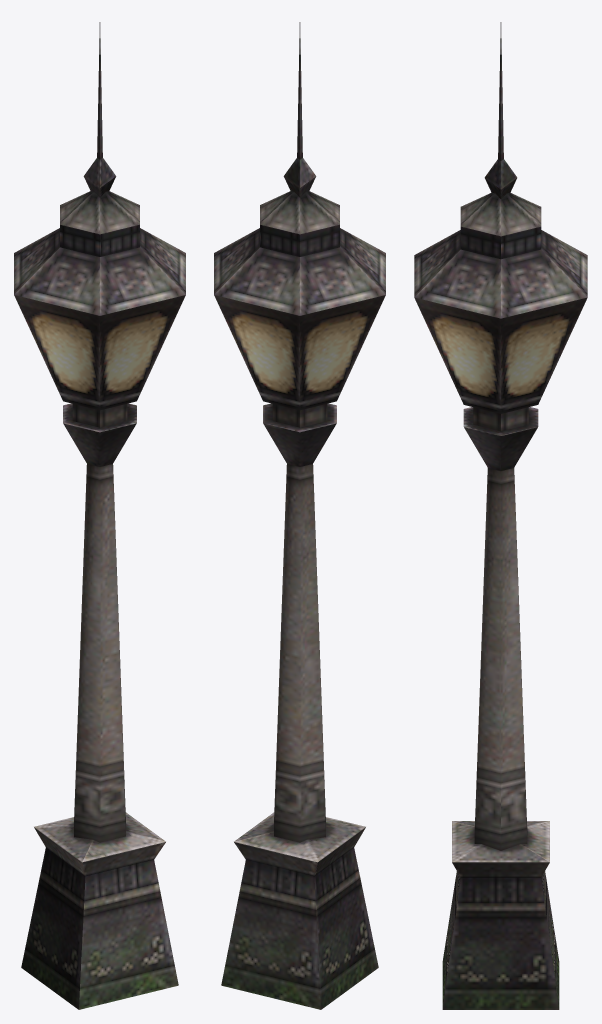
The picture shows the model from 3 angles, left to right: view 1: azimuth 30°, elevation 25°; view 2: azimuth 150°, elevation 25°; view 3: azimuth 270°, elevation 25°; orthographic projection.
Parts seen in each view (by area): view 1: streetlamp_y_01; view 2: streetlamp_y_01; view 3: streetlamp_y_01.
Boxes of the visible parts, left/top/right/bottom form: streetlamp_y_01: left=14, top=22, right=185, bottom=1009; streetlamp_y_01: left=214, top=22, right=385, bottom=1009; streetlamp_y_01: left=414, top=22, right=587, bottom=1009.
Size of the model in its own units: 0.0225 by 0.1205 by 0.0195.
Materials: 1 (1 with a texture image).
